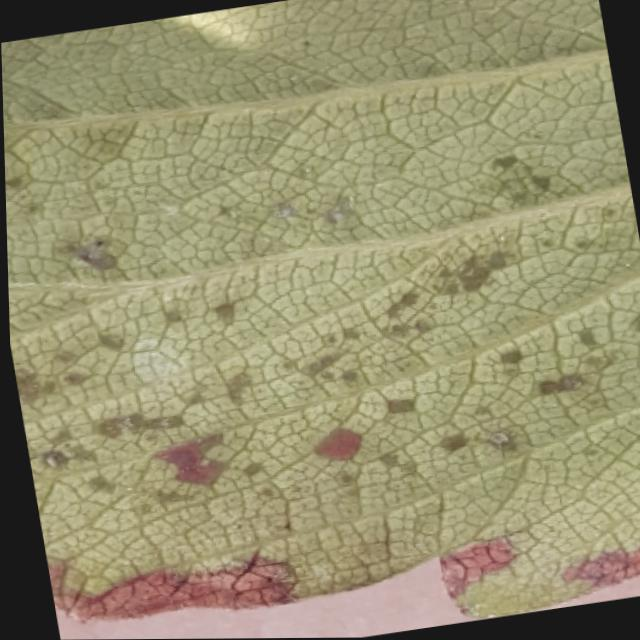Angular Leafspot: (3, 139, 640, 626)
